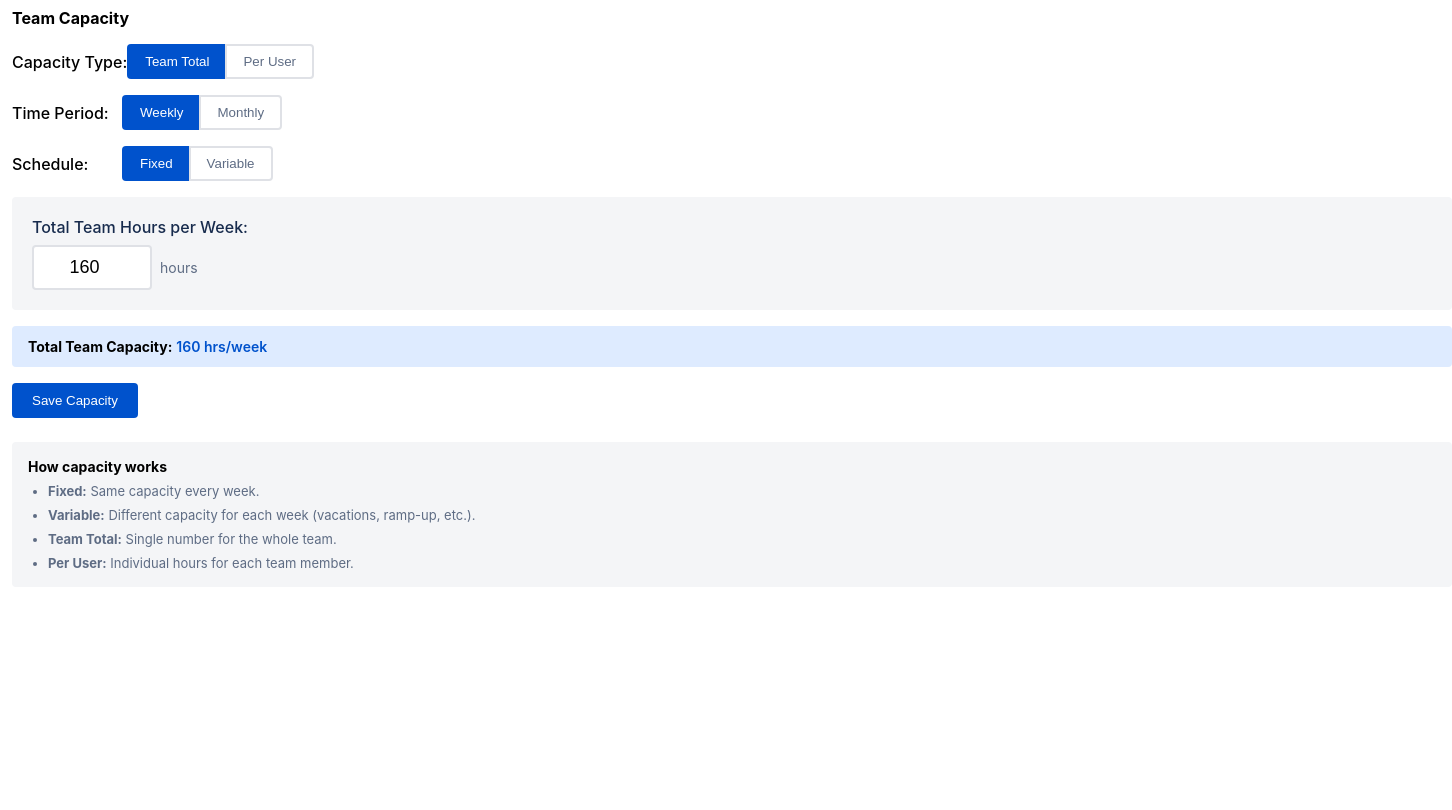
Test: CapacityPanel › Schedule Toggle (Fixed/Variable) › shows schedule table when Variable is selected
Click the button "Variable" at (231, 164), box [189,146,272,181]
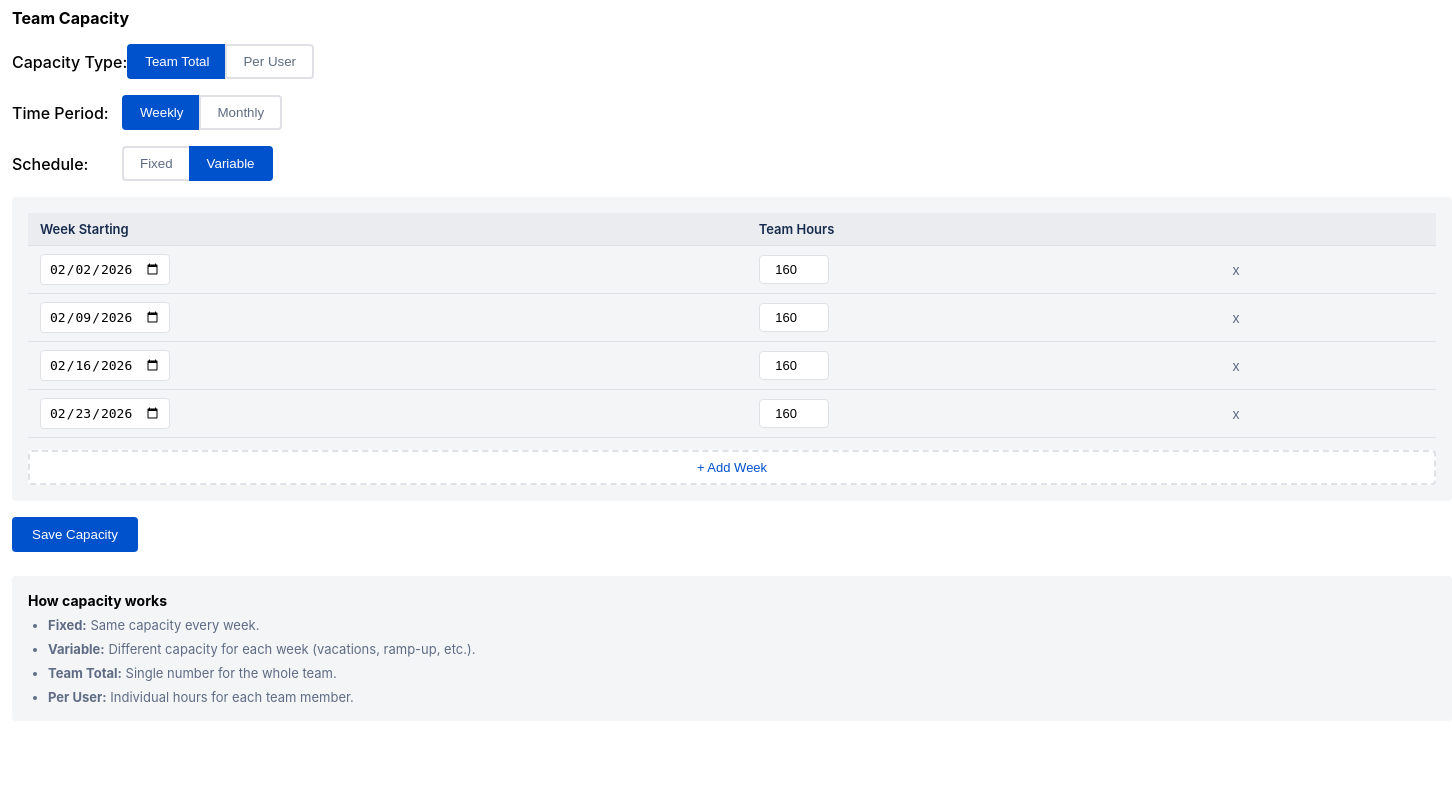
Expected: the column heading "Team Hours" is shown, [747,213,1212,246]
Result: the column heading "Week Starting" is shown at [28,213,747,246]
